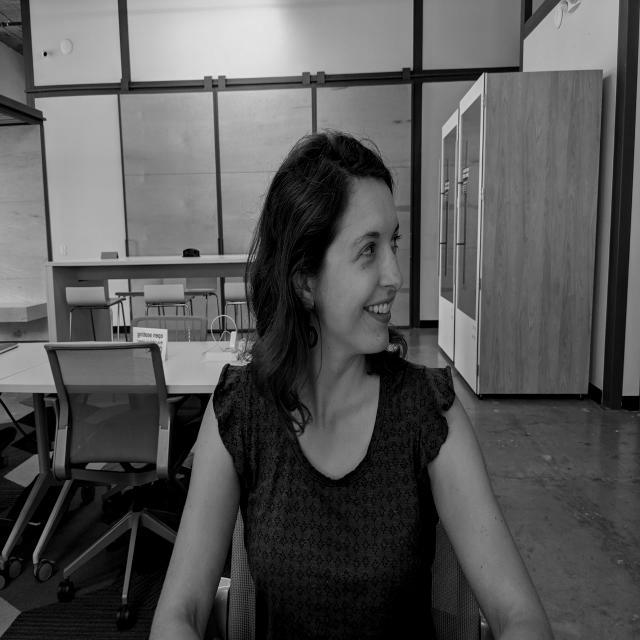real: (289, 168, 406, 358)
